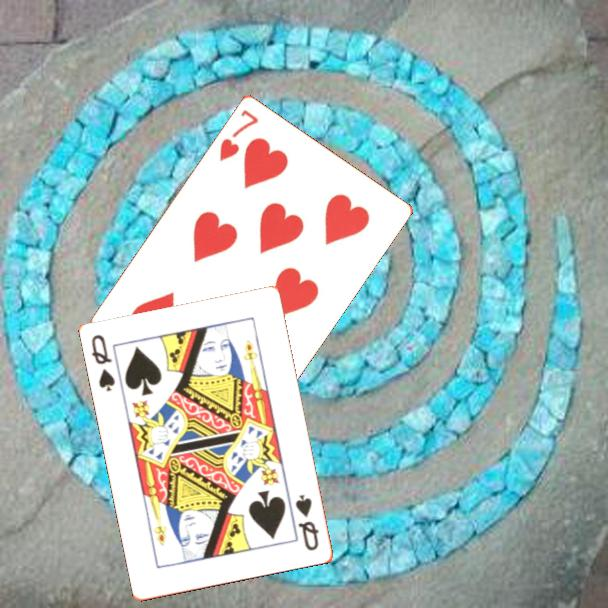h07: (216, 105, 261, 164)
s12: (88, 331, 118, 395), (292, 491, 322, 554)
